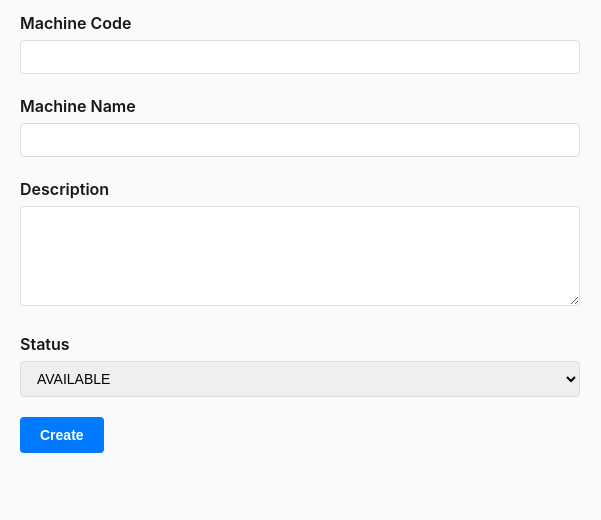
Test: MachineForm › should validate machine code format
Type "invalid-code" into the field labelled "Machine Code" at x=300, y=57, box [20, 40, 580, 74]
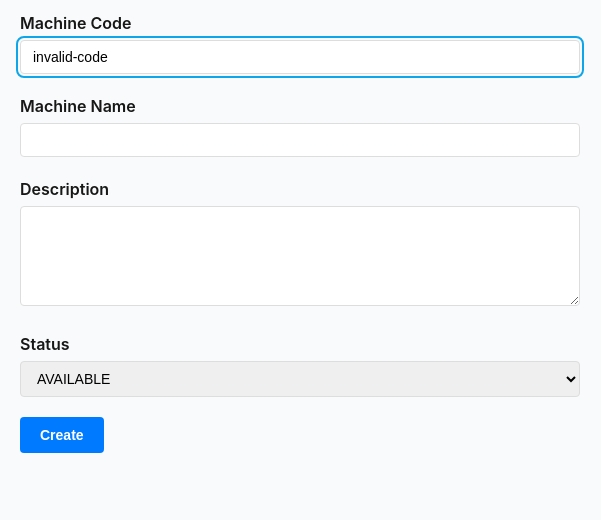
Click the button "Create" at x=62, y=435, box [20, 417, 104, 453]
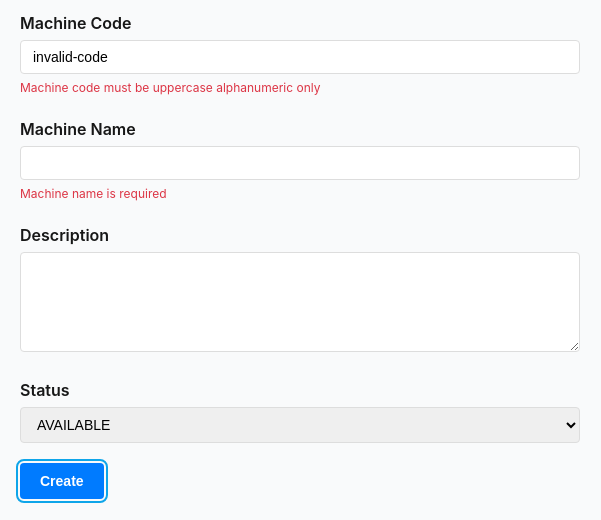
Check: the text "Machine code must be uppercase alphanumeric only" is shown, box [20, 80, 320, 95]
